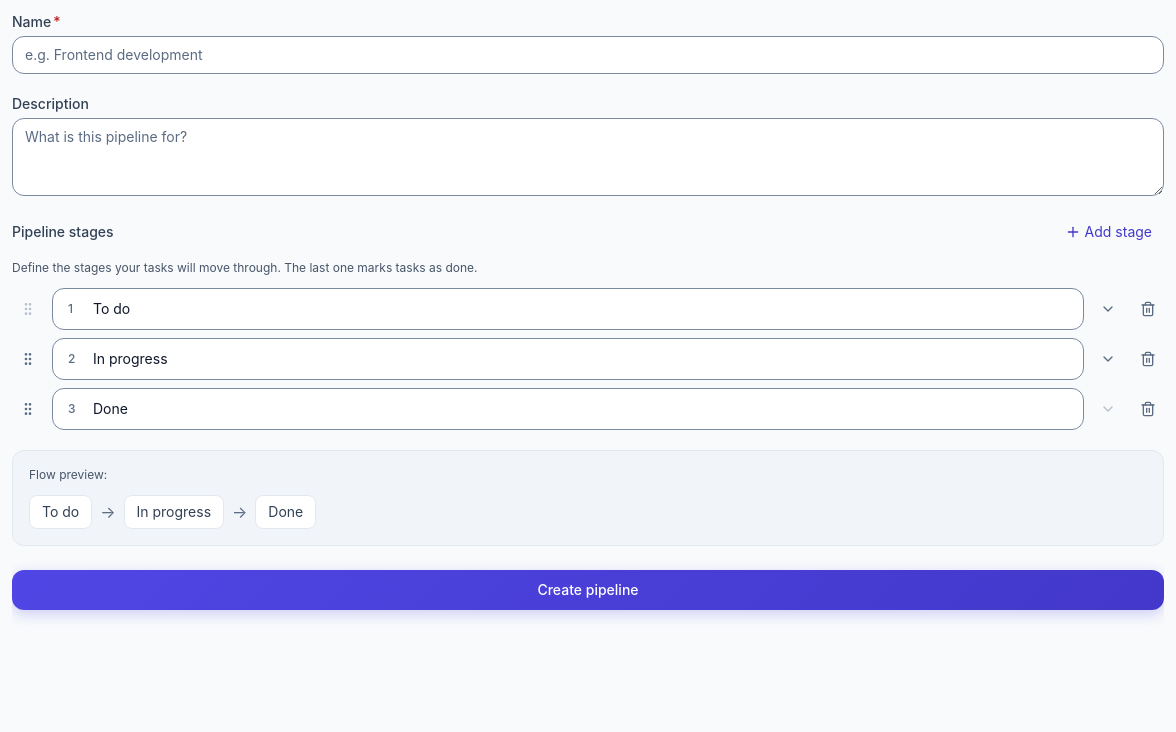
Test case: CreatePipelineForm refusals › keeps what the visitor typed in every field when the server refuses
Type "My flow" into the field labelled "Name*". click: point(588, 55)
box: [12, 36, 1164, 74]
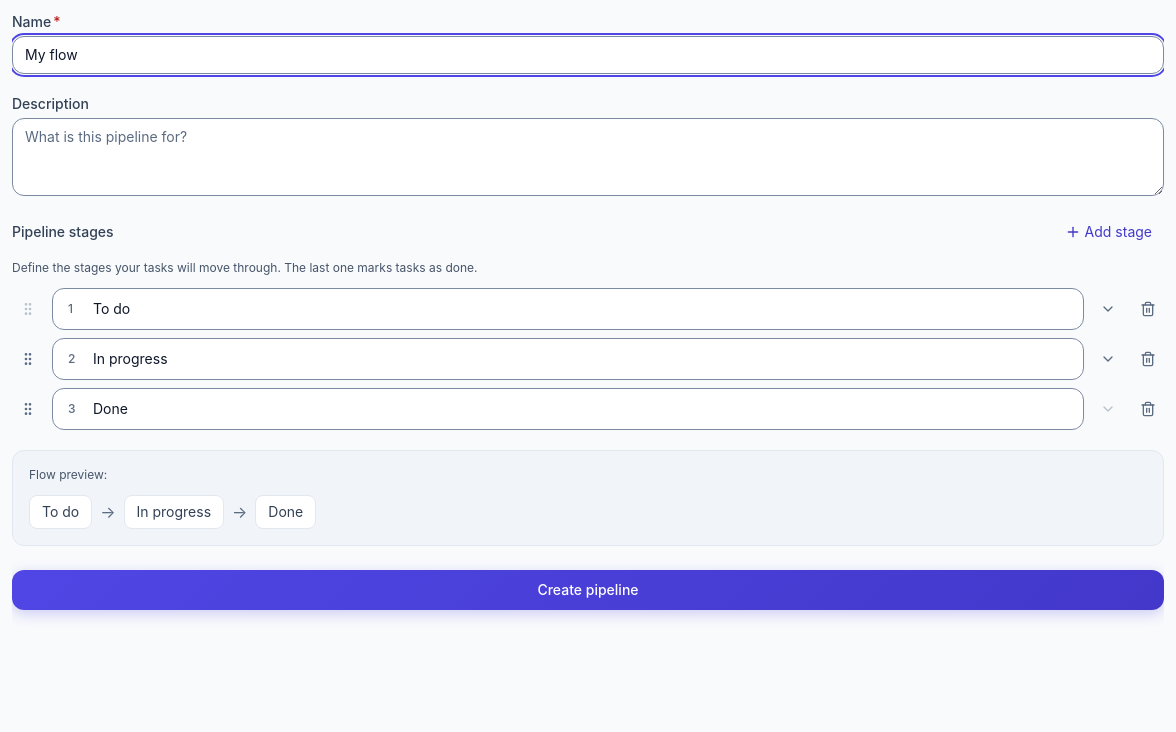
Type "Two weeks" into the text box labelled "Description". click: point(588, 157)
box: [12, 118, 1164, 196]
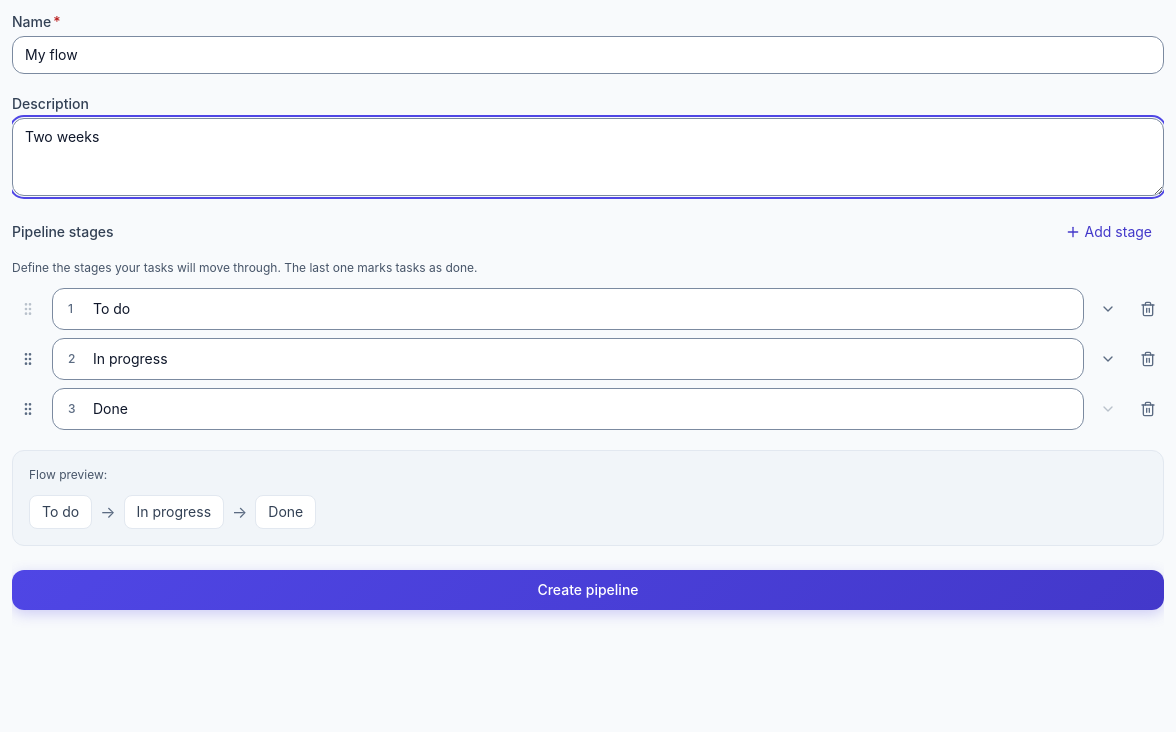
Clear the field named "Stage 1 name". click: point(568, 309)
box: [52, 288, 1084, 330]
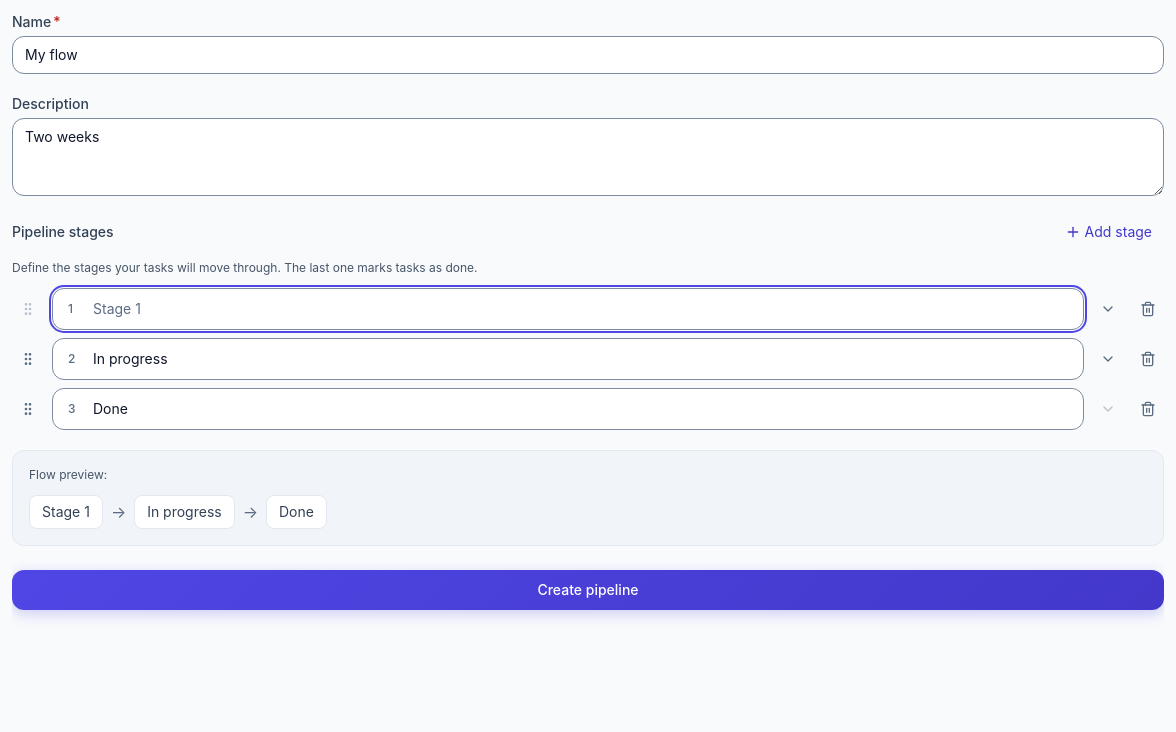
Click the button "Create pipeline". click: point(588, 590)
box: [12, 570, 1164, 610]
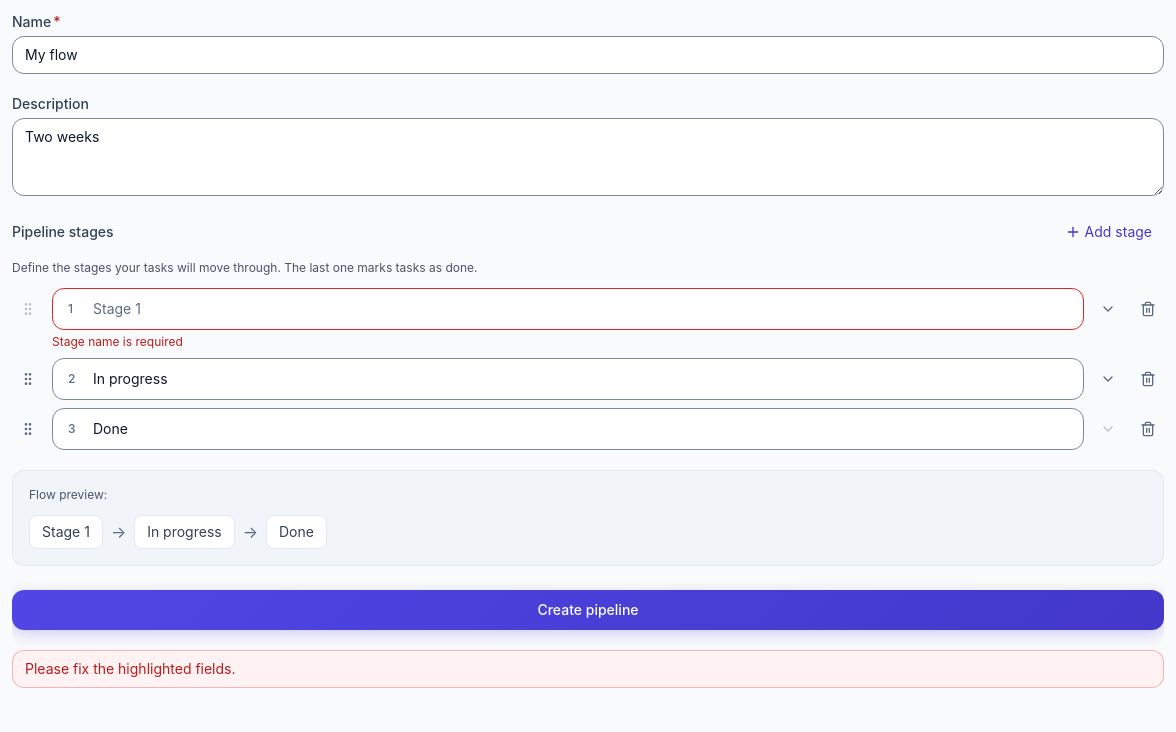
expect the text "Stage name is required" is shown: met, box [52, 334, 183, 349]
